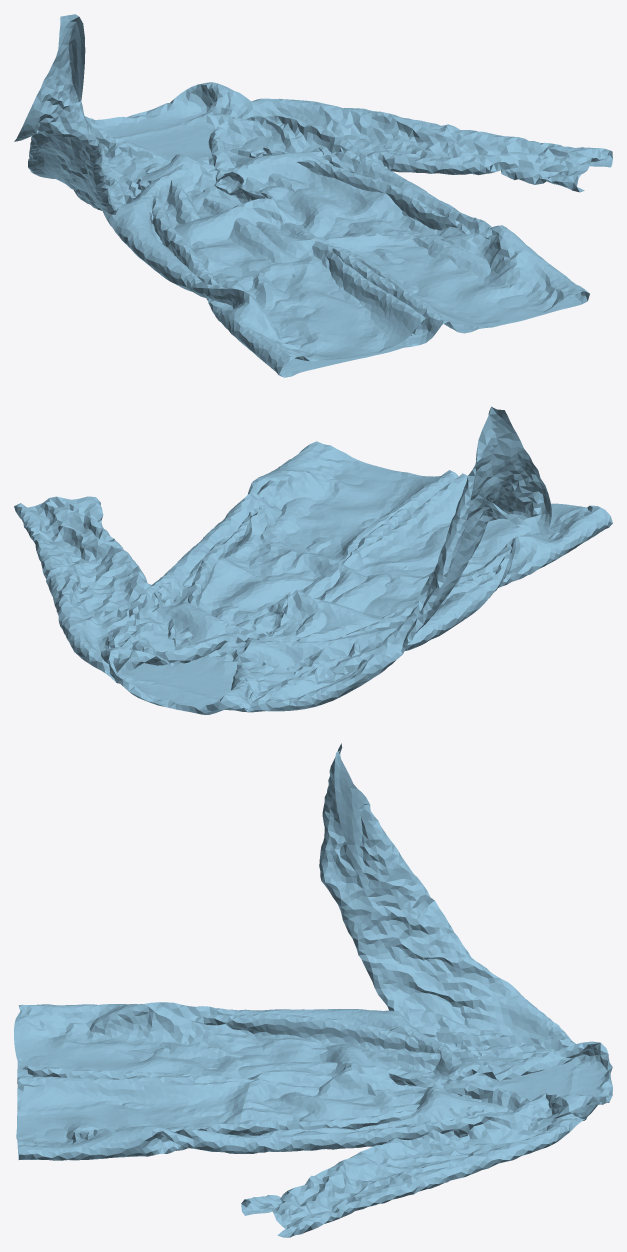
File: frame_07.glb
3 renders of one model, top to bottom at view 1: azimuth 30°, elevation 25°; view 2: azimuth 150°, elevation 25°; view 3: azimuth 270°, elevation 25°, orthographic. The views are drawn at different scales.
Visible parts, largest first — view 1: frame_07.obj; view 2: frame_07.obj; view 3: frame_07.obj.
Part boxes in pixels (<box>): frame_07.obj: <box>14,14,612,377</box>; frame_07.obj: <box>14,406,612,714</box>; frame_07.obj: <box>14,743,612,1237</box>.
Bounding box in the file's own units: 1.8 × 0.7698 × 1.68.
